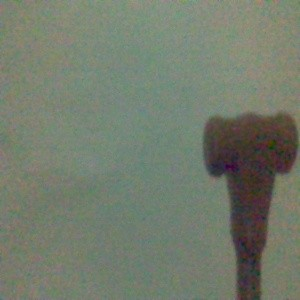palu: (201, 111, 300, 300)
